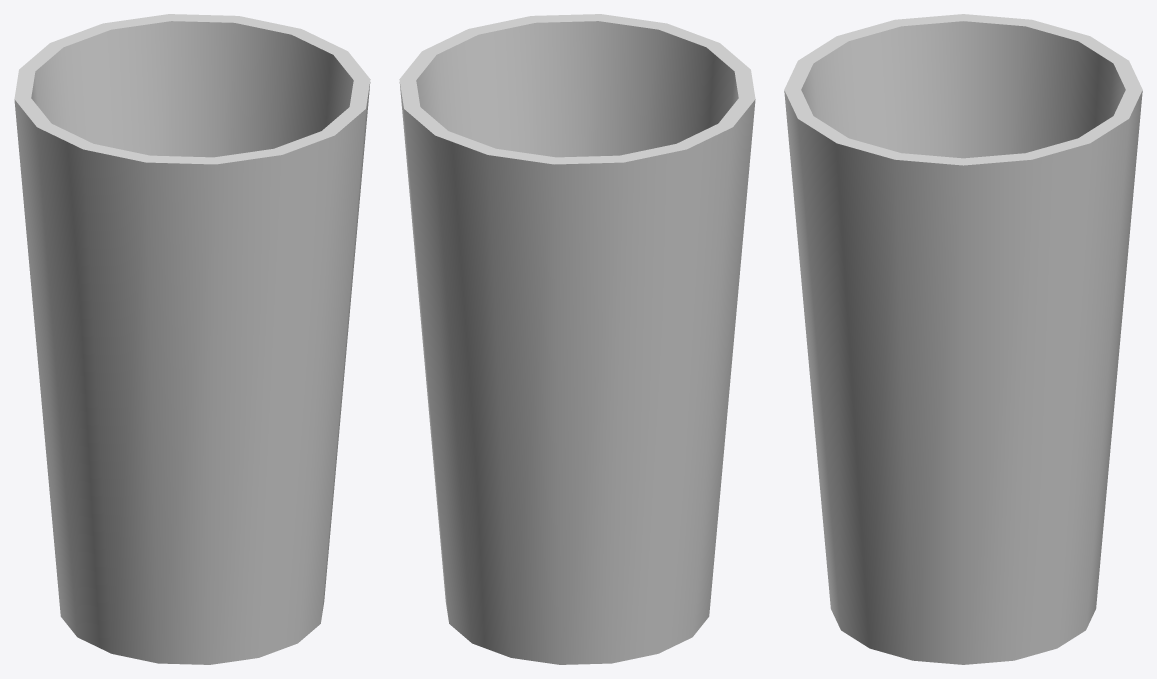
The model's file is CoffeeCupB.obj.
3 renders of one model, left to right at view 1: azimuth 30°, elevation 25°; view 2: azimuth 150°, elevation 25°; view 3: azimuth 270°, elevation 25°, orthographic.
Parts seen in each view (by area): view 1: CoffeeCupB; view 2: CoffeeCupB; view 3: CoffeeCupB.
Part boxes in pixels (x1,y1,x2,y2): CoffeeCupB: (14, 14, 370, 664); CoffeeCupB: (399, 14, 755, 664); CoffeeCupB: (784, 14, 1142, 664).
Bounding box in the file's own units: 0.0782 × 0.125 × 0.0782.
